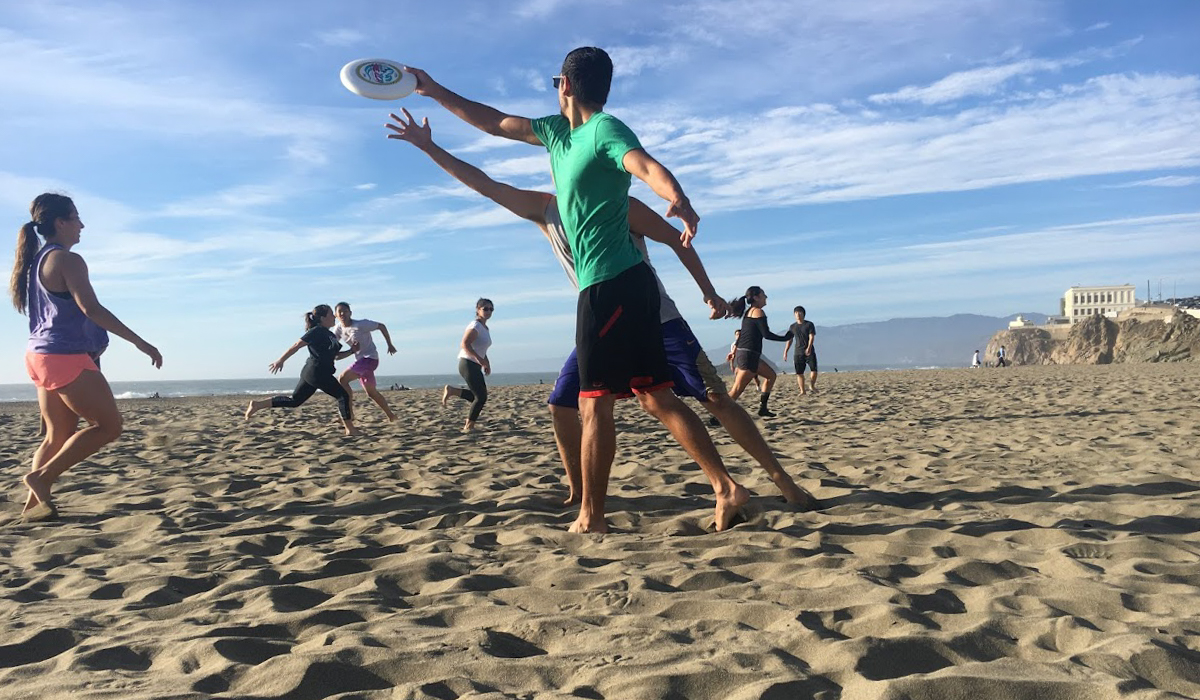disc: (336, 57, 424, 104)
